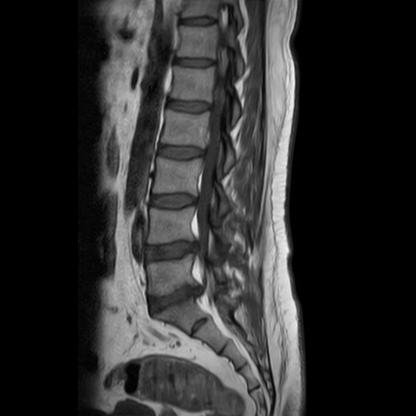Disc Bulgerotation: (140, 282, 217, 316), (143, 238, 210, 270)
